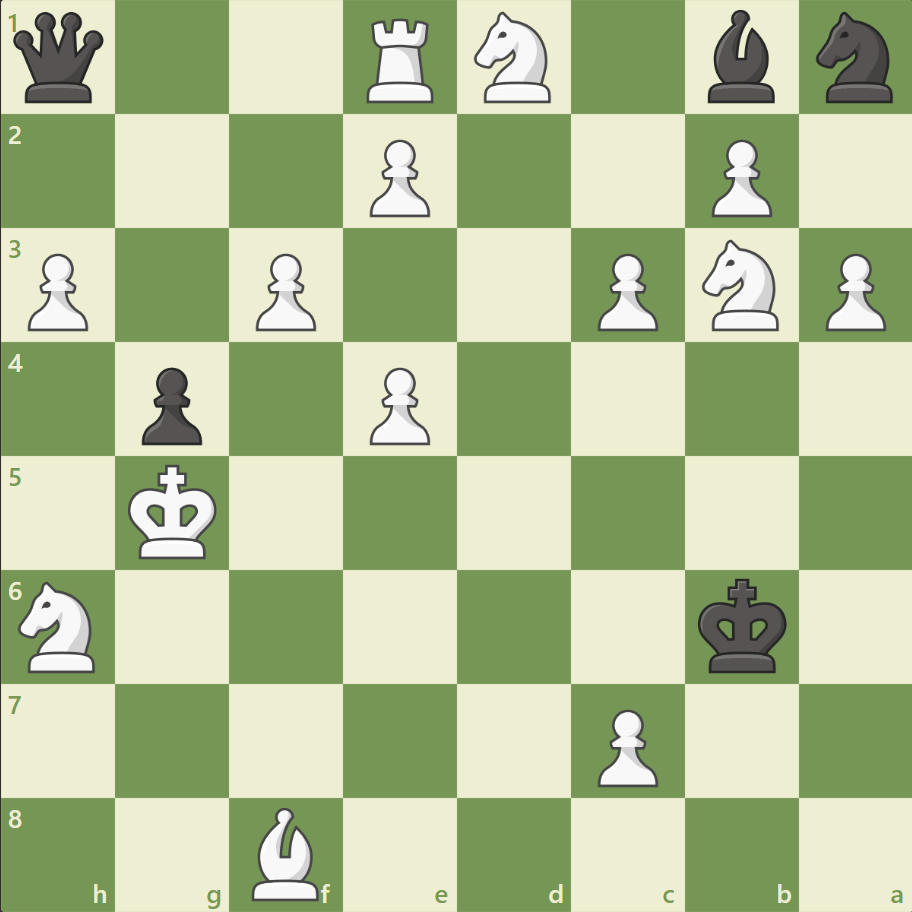B: (244, 801, 328, 904)
K: (124, 458, 224, 566)
N: (692, 234, 789, 337), (465, 7, 562, 110), (11, 575, 108, 677)
P: (247, 246, 322, 337), (20, 246, 95, 337), (701, 132, 776, 223), (588, 700, 662, 791), (361, 359, 435, 450), (815, 246, 889, 337), (588, 246, 662, 337), (361, 132, 435, 223)
R: (360, 12, 442, 109)
b: (698, 6, 782, 109)
k: (692, 571, 792, 679)
n: (806, 7, 903, 110)
p: (133, 359, 208, 450)
q: (10, 9, 109, 108)
